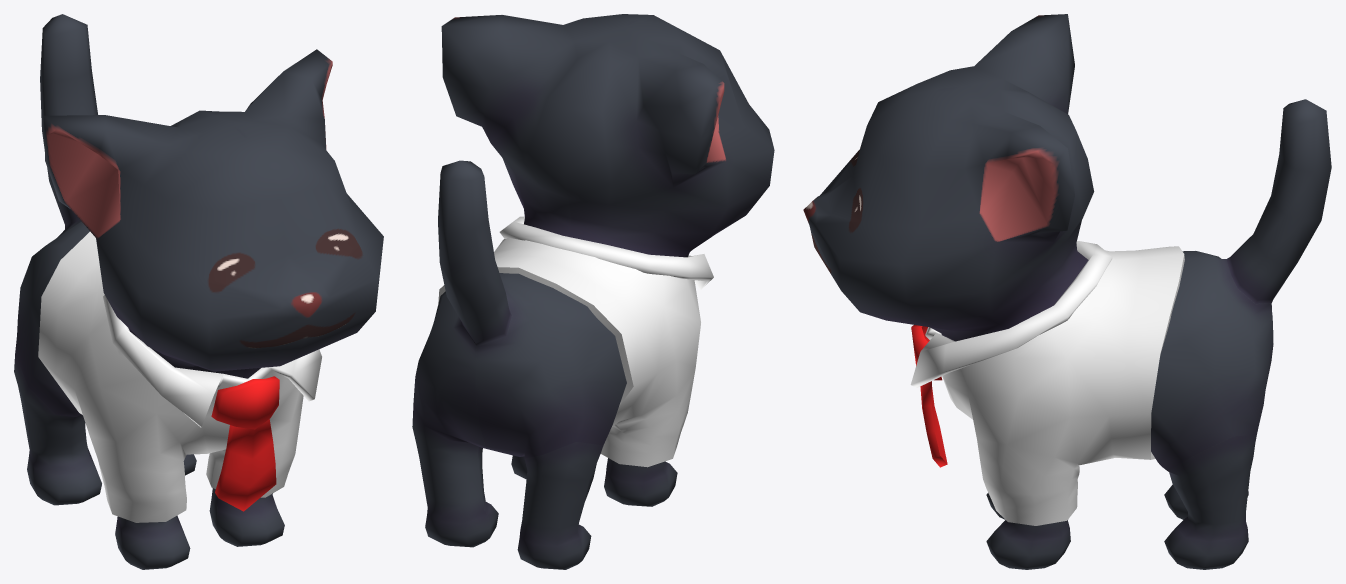
File: Dean Cat03.fbx
The picture shows the model from 3 angles, left to right: view 1: azimuth 30°, elevation 25°; view 2: azimuth 150°, elevation 25°; view 3: azimuth 270°, elevation 25°; orthographic projection. The views are drawn at different scales.
Visible parts, largest first — view 1: Cat_Base002, Dean_Cat_Shirt; view 2: Cat_Base002, Dean_Cat_Shirt; view 3: Cat_Base002, Dean_Cat_Shirt.
Boxes of the visible parts, bbox=[...] form: Cat_Base002: bbox=[14, 14, 383, 569]; Dean_Cat_Shirt: bbox=[38, 231, 321, 522]; Cat_Base002: bbox=[412, 14, 774, 569]; Dean_Cat_Shirt: bbox=[438, 216, 713, 467]; Cat_Base002: bbox=[803, 14, 1331, 569]; Dean_Cat_Shirt: bbox=[910, 240, 1184, 525].
Size of the model in its own units: 1.75 by 2.83 by 2.68.
3 materials, 1 textured.
